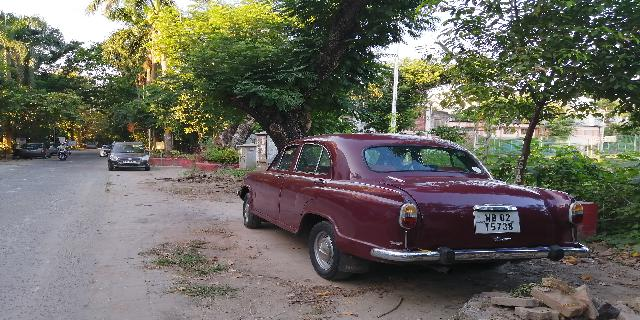Car: (232, 132, 592, 288), (105, 139, 156, 173)
